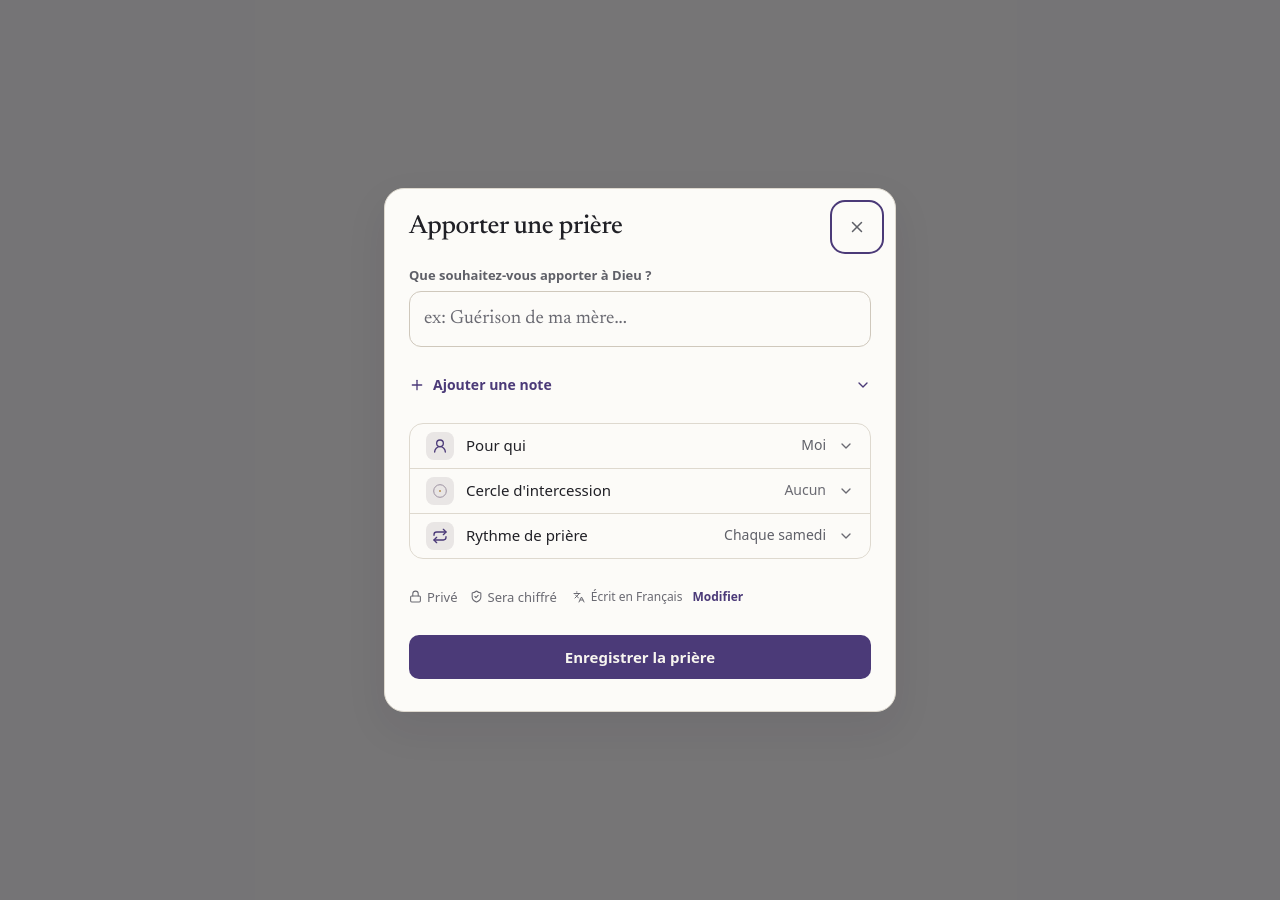
Test case: PrayerForm — the Intercession Circle row › asks only what to bring before God; the seven circles wait behind one quiet row
Check: the field labelled "Que souhaitez-vous apporter à Dieu ?" is shown, box [409,291,871,347]
Click the button "Cercle d'intercession Aucun" at (539, 490), box [410,469,870,513]
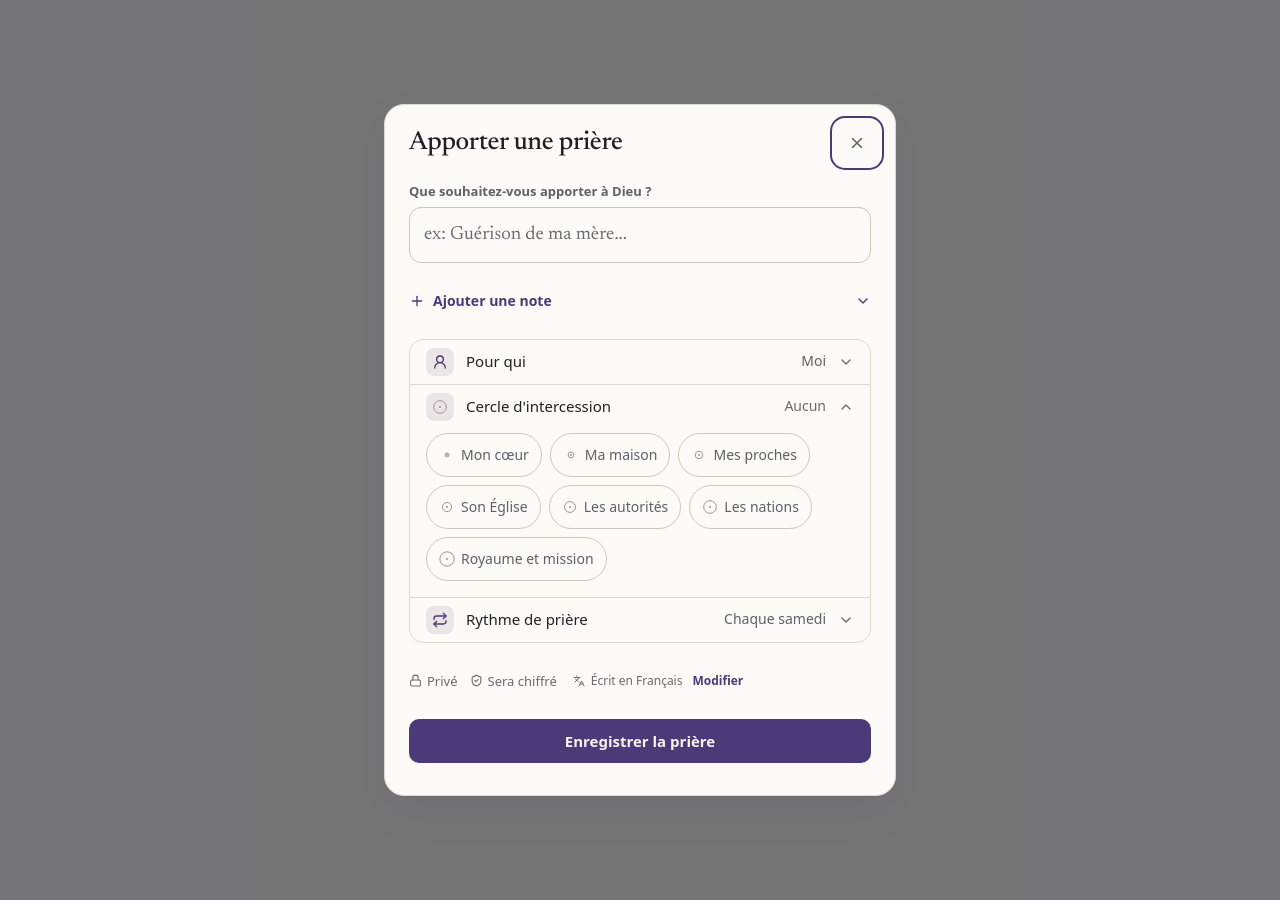
Check: the button "Cercle d'intercession Aucun" is expanded, box [410,385,870,429]
